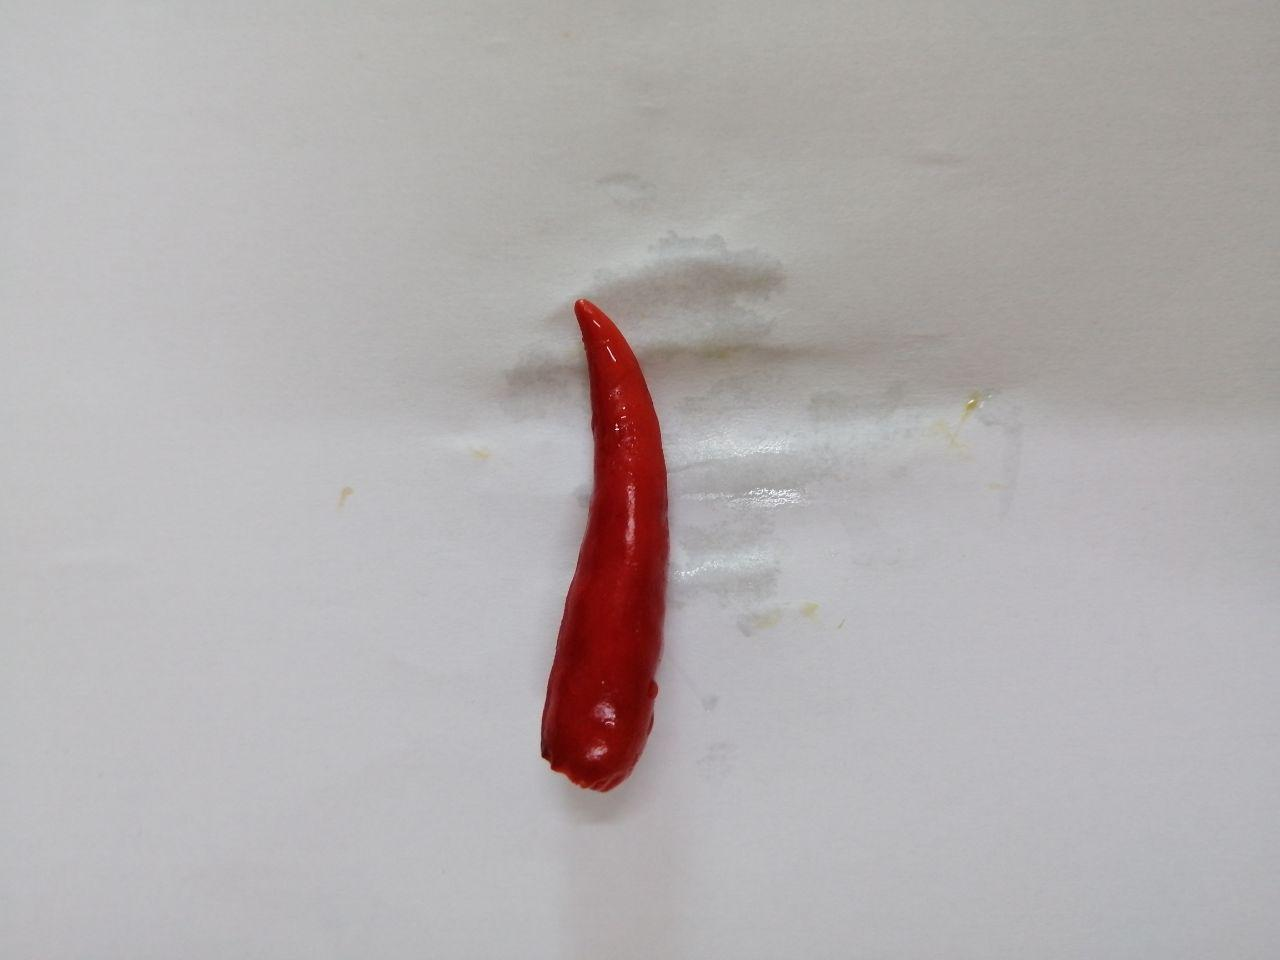lada merah: (519, 284, 722, 802)
